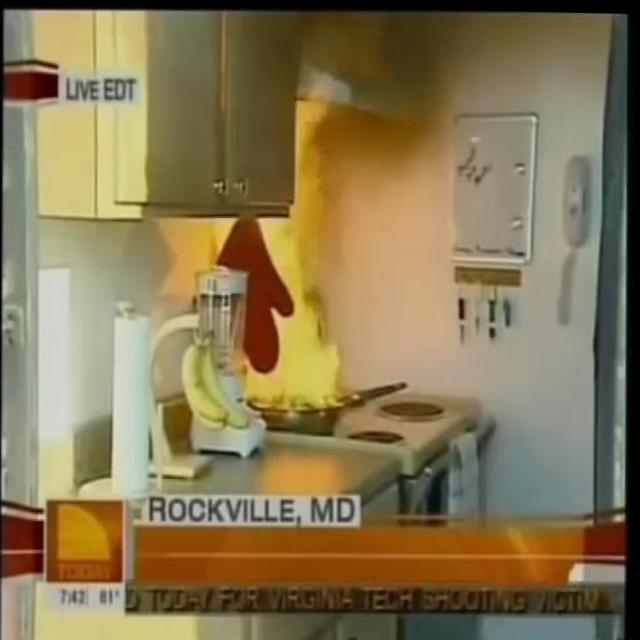fire: (234, 191, 358, 412)
